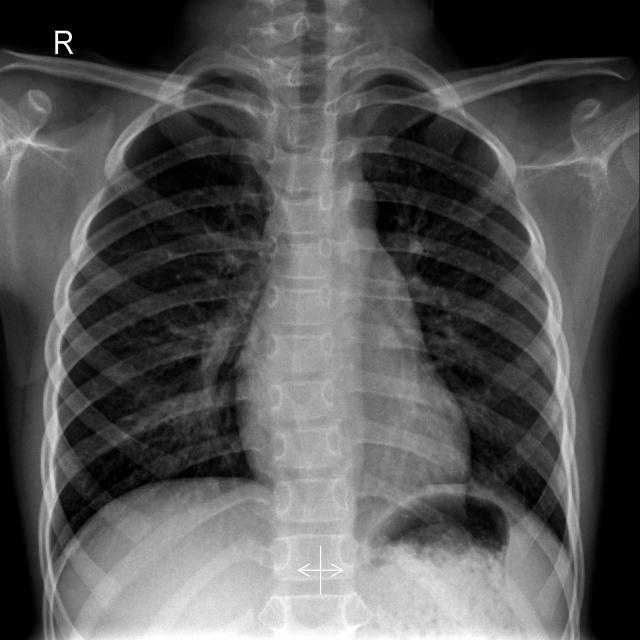no-pneumonia: (41, 69, 274, 609), (359, 52, 579, 546)
